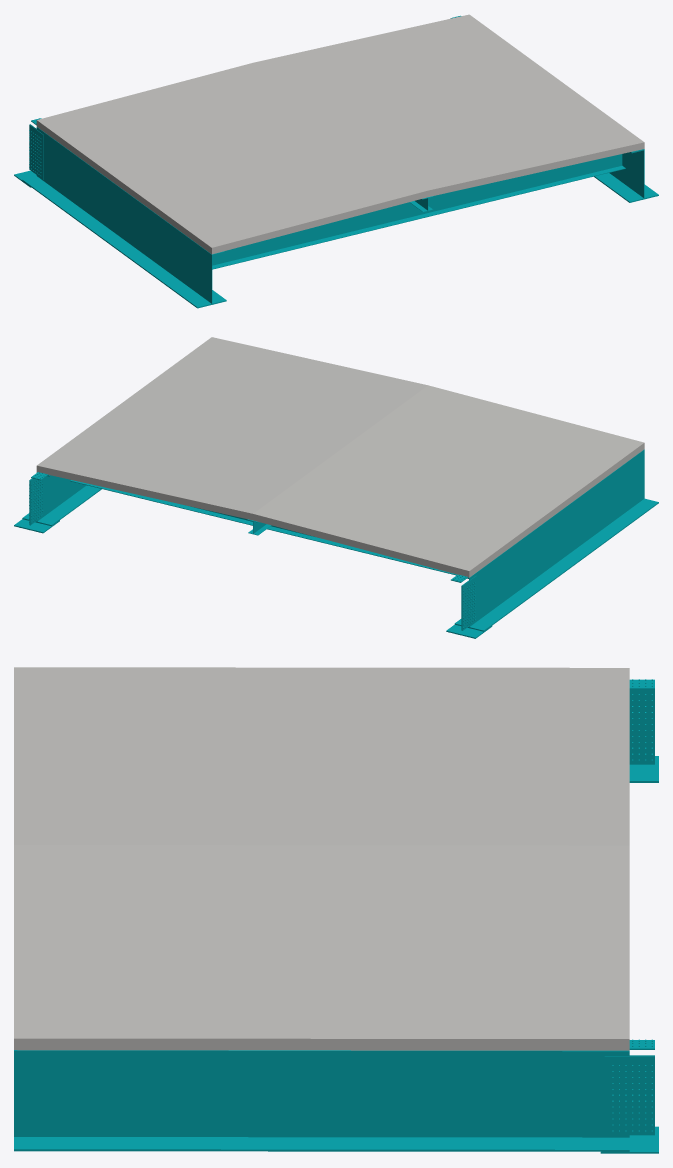
File: DECK_SN08.glb
The picture shows the model from 3 angles, top to bottom: view 1: azimuth 30°, elevation 25°; view 2: azimuth 150°, elevation 25°; view 3: azimuth 270°, elevation 25°; orthographic projection. The views are drawn at different scales.
Parts seen in each view (by area): view 1: SN08_Slab_15, SN08_G_W_0, SN08_FB_web_11, SN08_FB_bf_14, SN08_G_E_1, SN08_SpliceW_17; view 2: SN08_Slab_15, SN08_G_W_0, SN08_G_E_1, SN08_FB_bf_6, SN08_SpliceW_17, SN08_SpliceW_25; view 3: SN08_Slab_15, SN08_G_E_1, SN08_SpliceW_26, SN08_SpliceW_18.
Part boxes in pixels (left/top/right/bottom): SN08_Slab_15: left=36, top=14, right=644, bottom=254; SN08_G_W_0: left=22, top=127, right=226, bottom=308; SN08_FB_web_11: left=212, top=154, right=622, bottom=265; SN08_FB_bf_14: left=212, top=165, right=625, bottom=269; SN08_G_E_1: left=594, top=149, right=658, bottom=202; SN08_SpliceW_17: left=29, top=124, right=43, bottom=179; SN08_Slab_15: left=36, top=337, right=644, bottom=577; SN08_G_W_0: left=454, top=449, right=658, bottom=631; SN08_G_E_1: left=22, top=472, right=101, bottom=526; SN08_FB_bf_6: left=70, top=480, right=456, bottom=575; SN08_SpliceW_17: left=462, top=575, right=476, bottom=630; SN08_SpliceW_25: left=30, top=478, right=44, bottom=525; SN08_Slab_15: left=14, top=667, right=629, bottom=1050; SN08_G_E_1: left=14, top=1050, right=629, bottom=1151; SN08_SpliceW_26: left=604, top=1056, right=654, bottom=1135; SN08_SpliceW_18: left=629, top=690, right=654, bottom=764.
Size of the model in its own units: 18.26 by 2.41 by 12.57.
